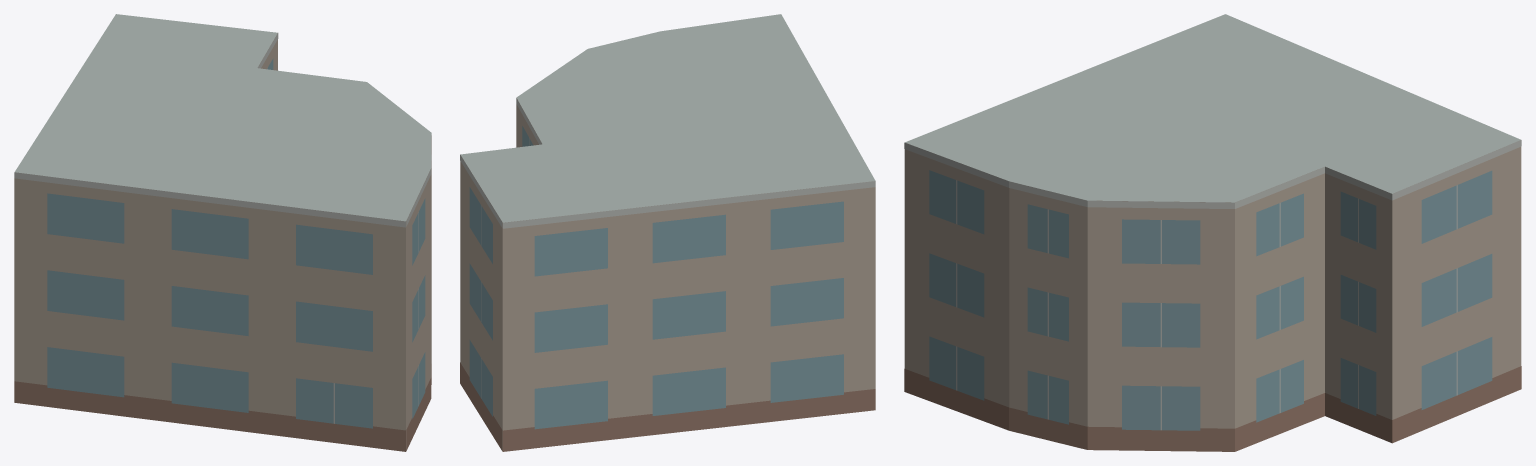
Rendered from survey-upis-32590192.glb.
The picture shows the model from 3 angles, left to right: view 1: azimuth 30°, elevation 25°; view 2: azimuth 150°, elevation 25°; view 3: azimuth 270°, elevation 25°; orthographic projection. The views are drawn at different scales.
Visible parts, largest first — view 1: survey-upis-32590192.tmp; view 2: survey-upis-32590192.tmp; view 3: survey-upis-32590192.tmp.
Part boxes in pixels (x1,y1,x2,y2): survey-upis-32590192.tmp: (14,14,431,451); survey-upis-32590192.tmp: (460,14,875,451); survey-upis-32590192.tmp: (904,14,1521,451).
Bounding box in the file's own units: 14.84 × 9.15 × 20.52.
